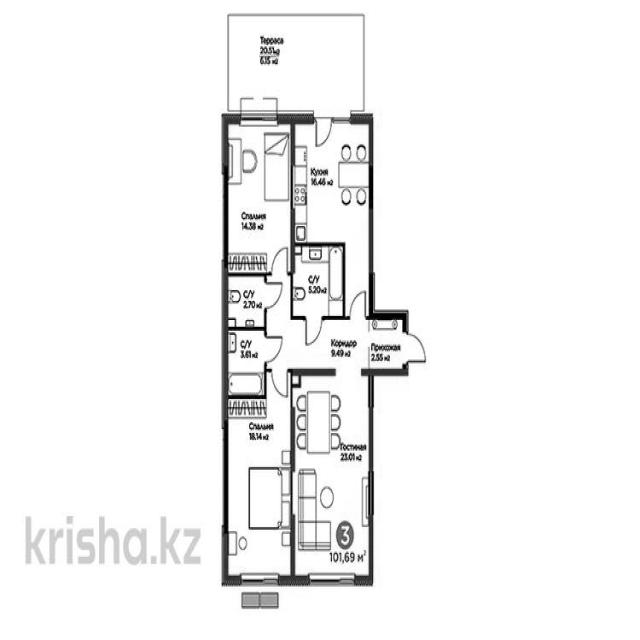balcony: (227, 11, 367, 111)
bathroom: (293, 244, 345, 318), (227, 329, 265, 396), (227, 274, 264, 326)
hallway: (266, 277, 404, 369)
kitchen: (294, 120, 371, 317)
living_room: (293, 374, 370, 580), (226, 371, 291, 580), (227, 124, 292, 272)
